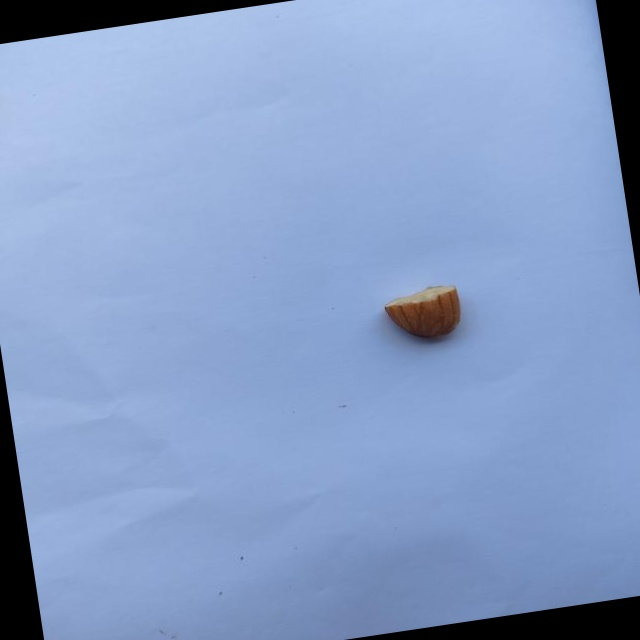grade4: (373, 278, 473, 353)
